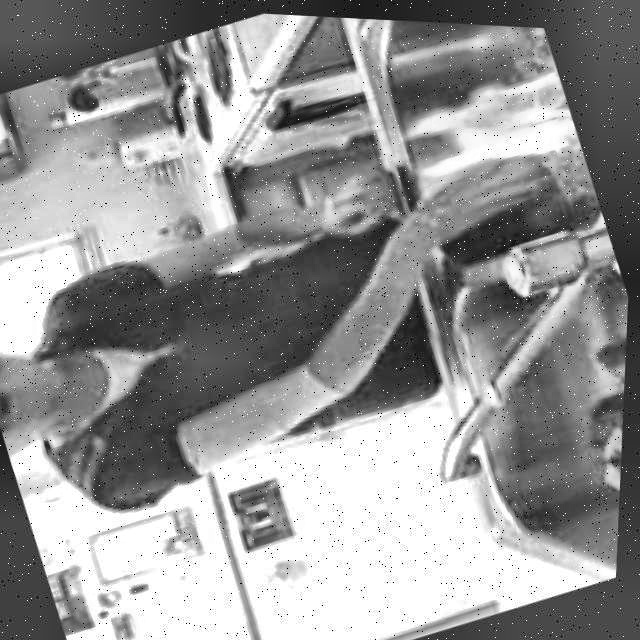Fire: (406, 56, 584, 189)
